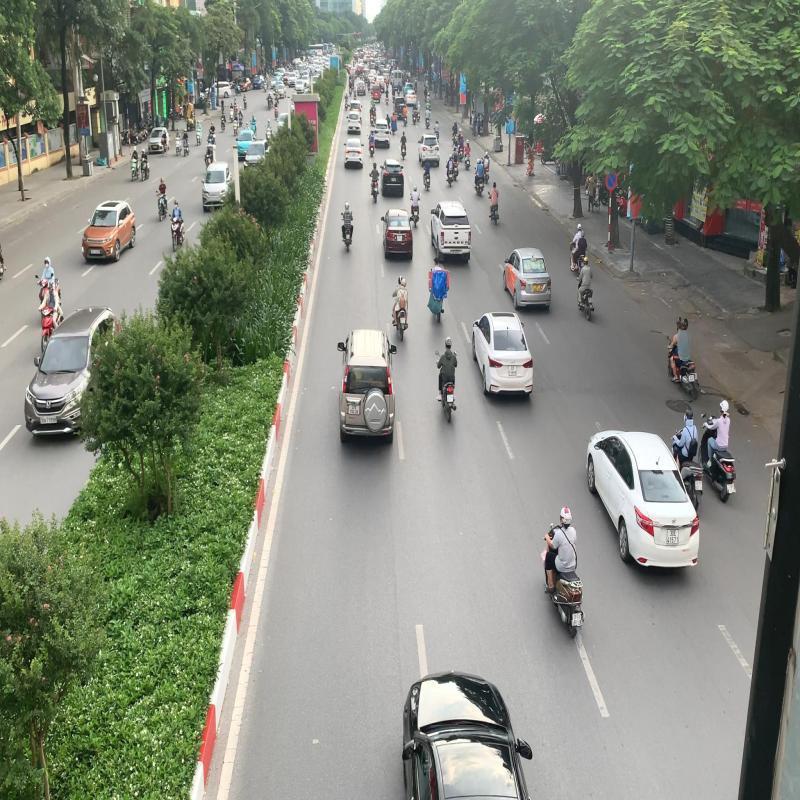helmet: (561, 505, 573, 527), (683, 408, 694, 421), (718, 399, 728, 412), (682, 317, 690, 330)
licenseplate: (572, 613, 582, 626), (728, 484, 736, 494), (696, 481, 702, 490), (690, 374, 696, 382)
motorcyclist: (540, 505, 585, 639), (698, 399, 737, 504), (670, 407, 704, 512), (664, 317, 698, 402)
